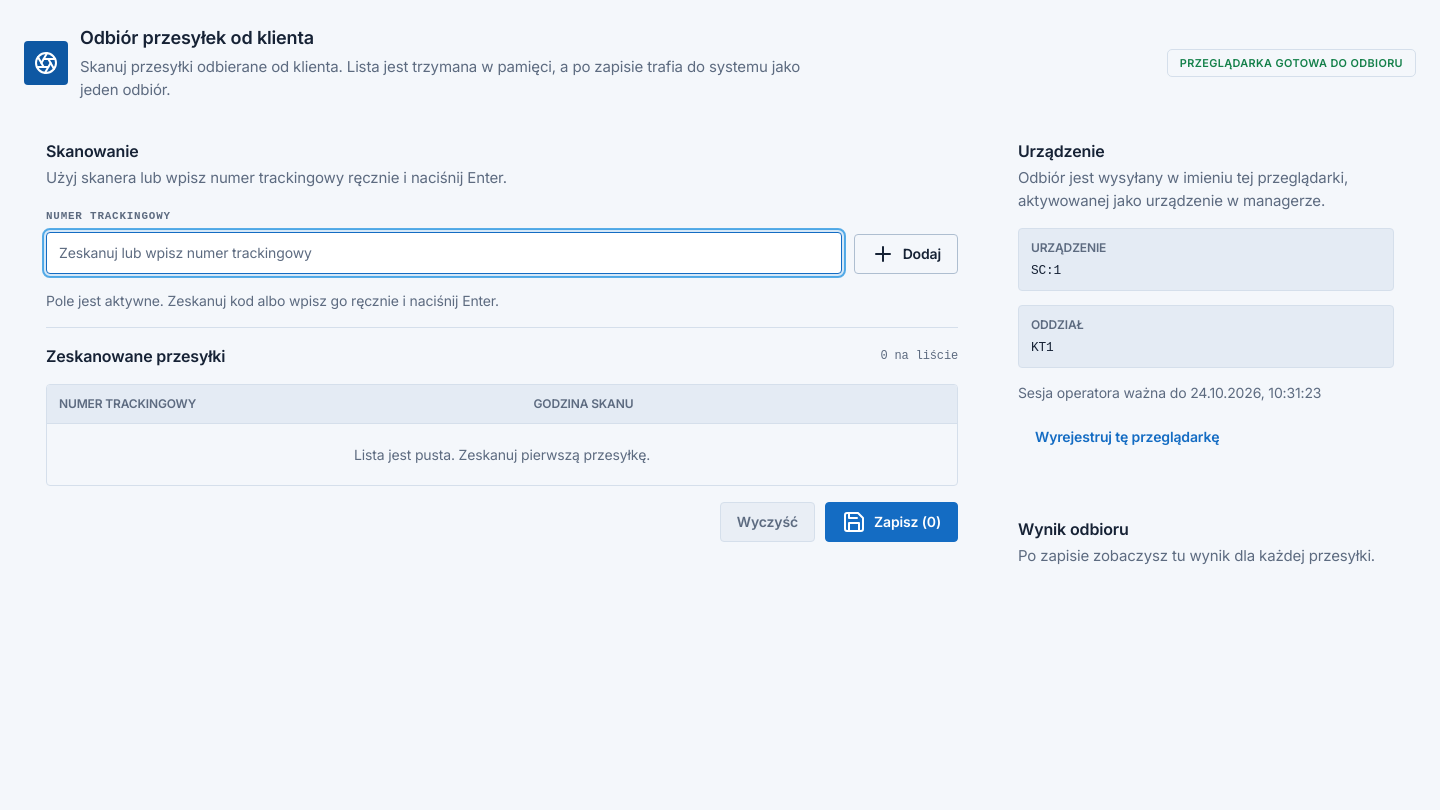
Test: ShipmentScanner › forgets the browser device when the backend rejects its pair key
The image size is (1440, 810).
Expected: the text "Przeglądarka gotowa do odbioru" is shown, [1180,52,1403,72]
In the field labelled "Numer trackingowy": [444, 252] box [46,232,842,274], type "TRK-001"
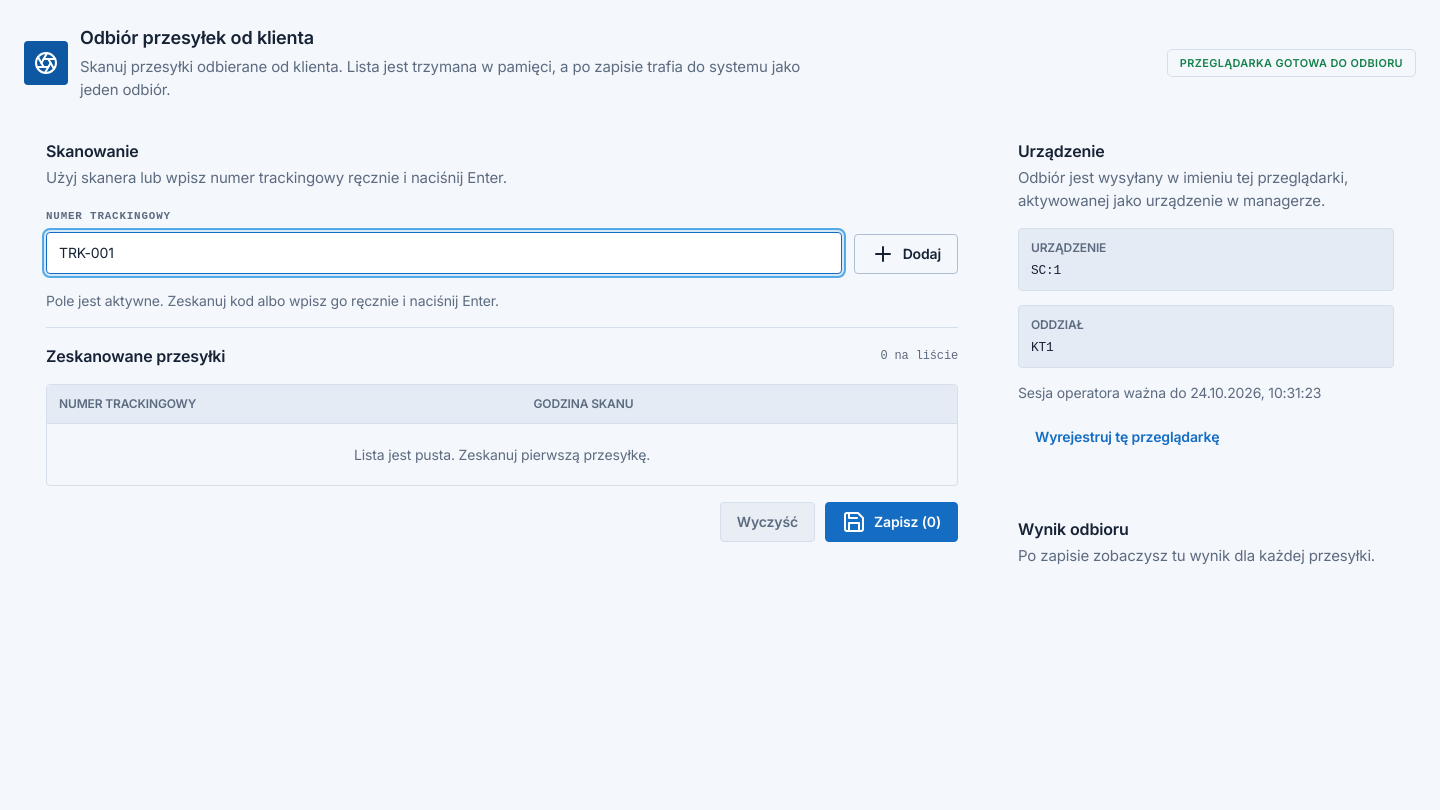
Click the button "Dodaj": [906, 254] box [854,234,958,274]
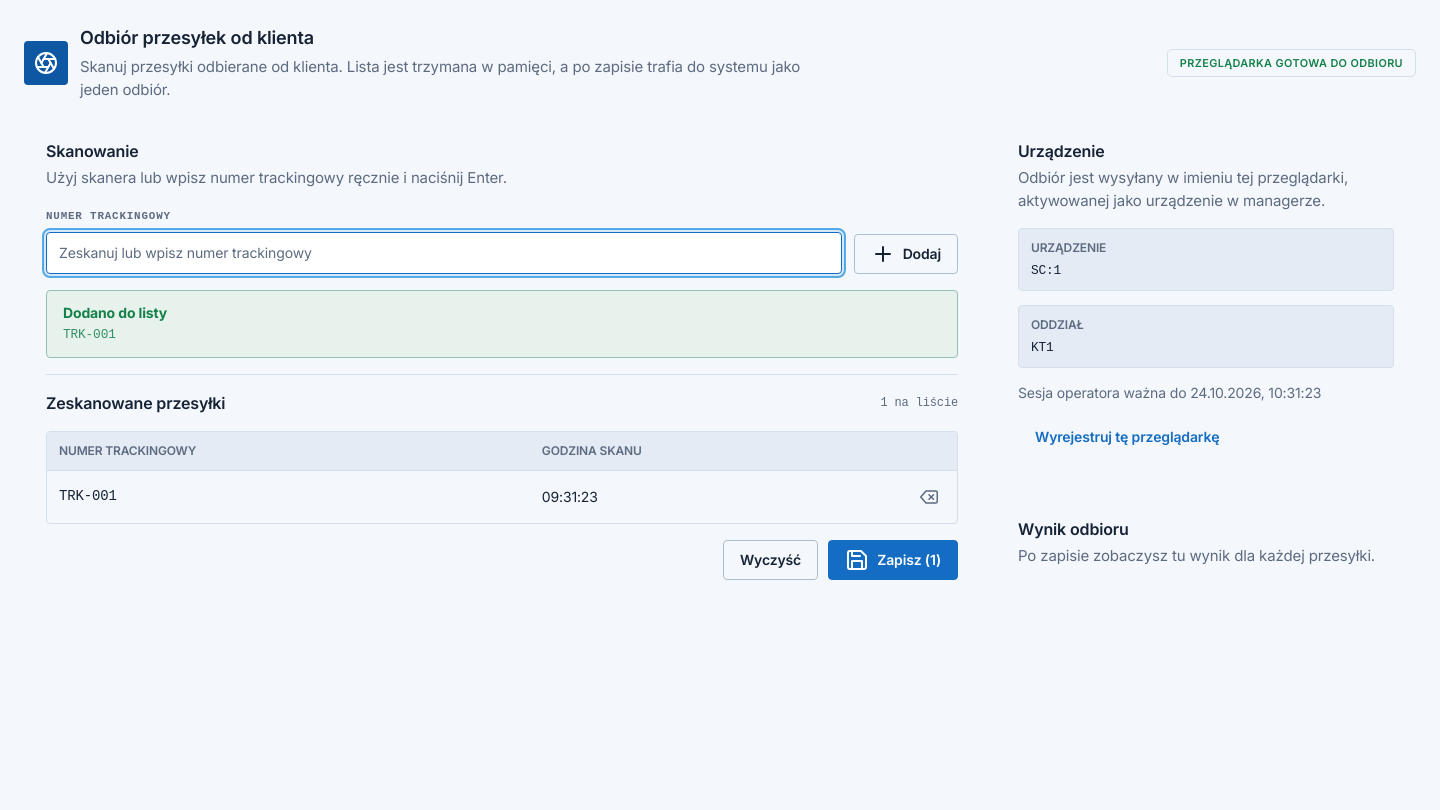
Click the button "Zapisz (1)": [893, 560] box [828,540,958,580]
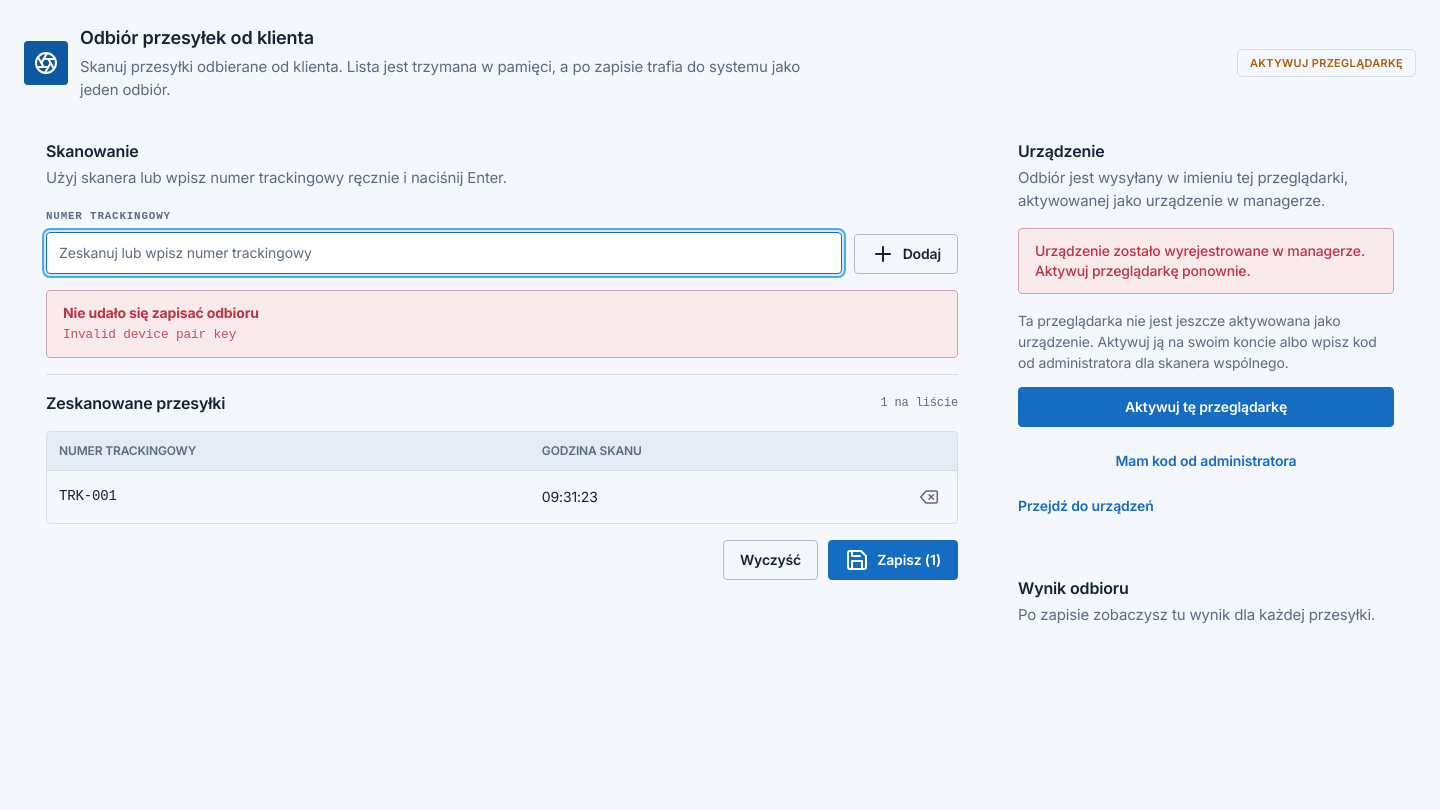
Now the text "Urządzenie zostało wyrejestrowane w managerze. Aktywuj przeglądarkę ponownie." is shown, box [1035,241,1377,281]
Now the button "Aktywuj tę przeglądarkę" is shown, box [1018,387,1394,427]
